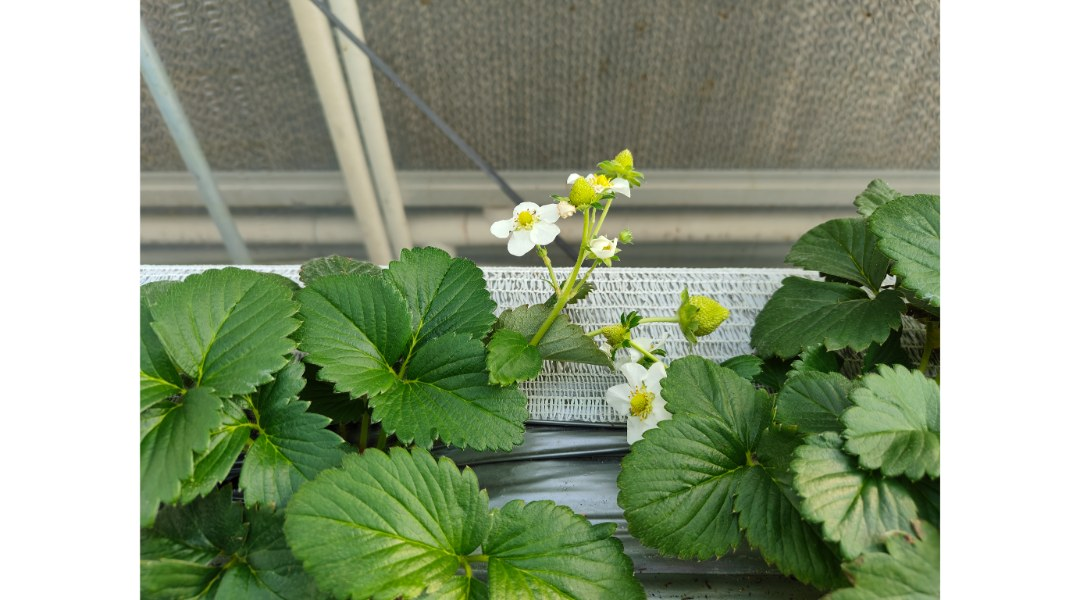berry: (665, 294, 739, 341), (564, 169, 614, 216), (604, 154, 659, 193), (598, 307, 641, 348)
flower: (606, 365, 677, 452), (483, 198, 563, 260), (618, 328, 678, 383), (576, 230, 632, 271)
strain: (580, 319, 684, 334), (534, 295, 565, 345), (580, 203, 588, 254)
